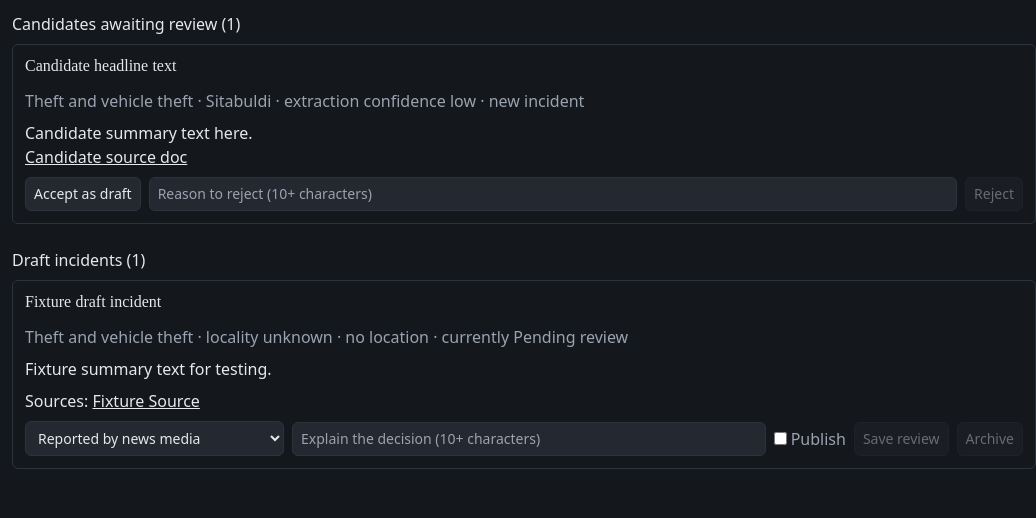
Test: ReviewQueue › shows the API reason when evidence does not support a status
This screenshot has width=1036, height=518.
Expected: the text "Fixture draft incident" is shown, [25,292,161,317]
In the field named "Explanation for a1": (529, 438) [292,422,766,456], type "Two outlets reported it."
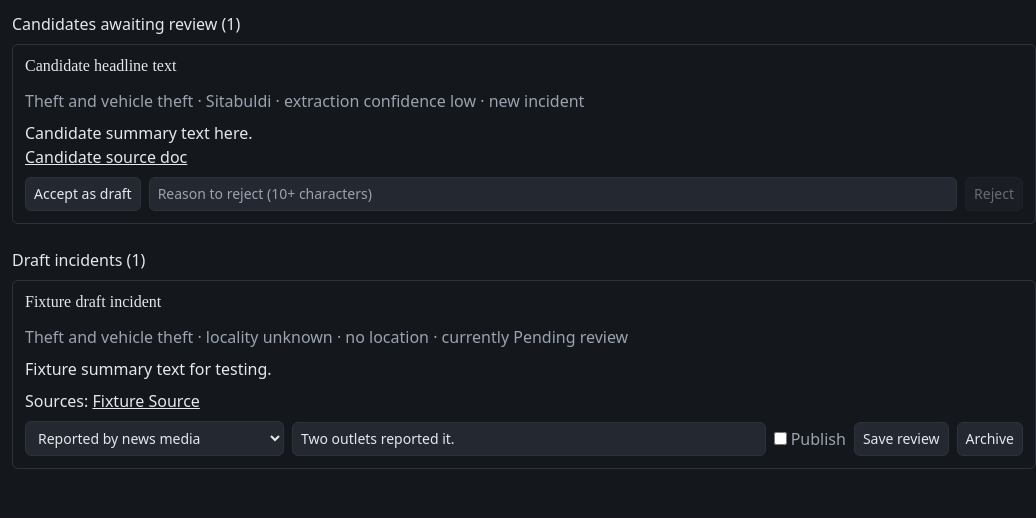
Click the button "Save review": (901, 438) [854,422,949,456]
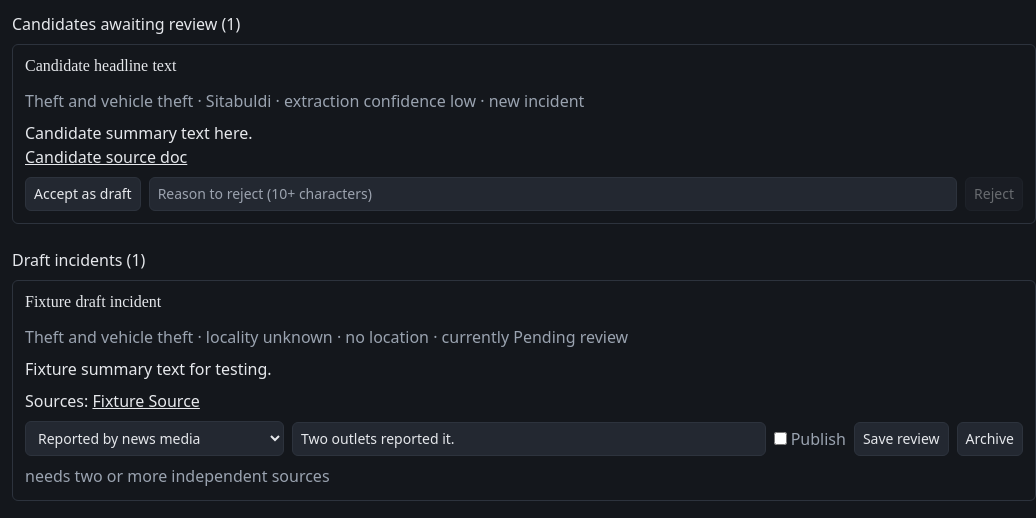
Now the text "needs two or more independent sources" is shown, box [25,465,330,487]
